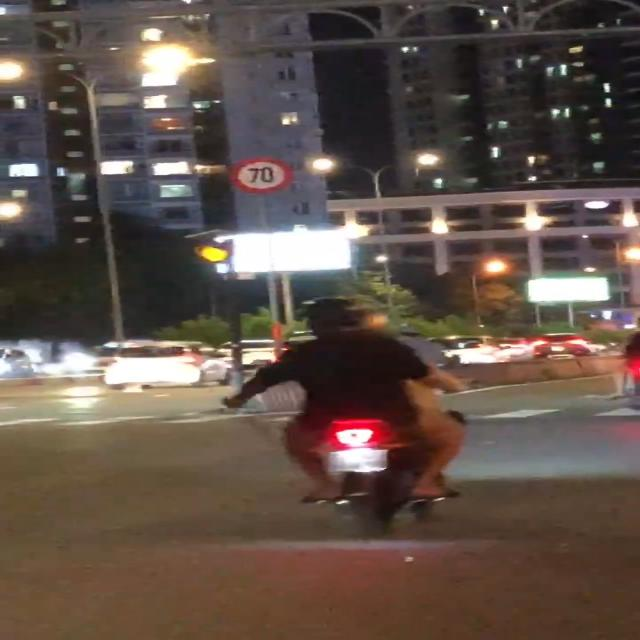Bien bao toc do toi da cho phep: (228, 153, 294, 196)
